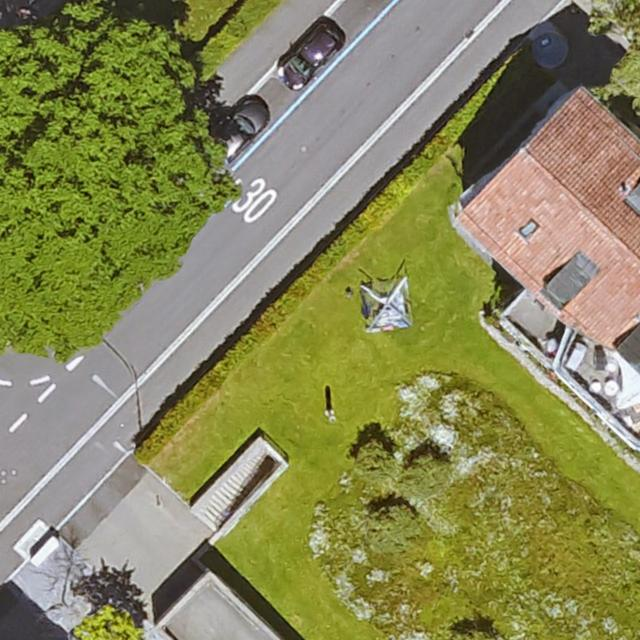tree: (0, 7, 232, 357), (67, 606, 145, 640)
